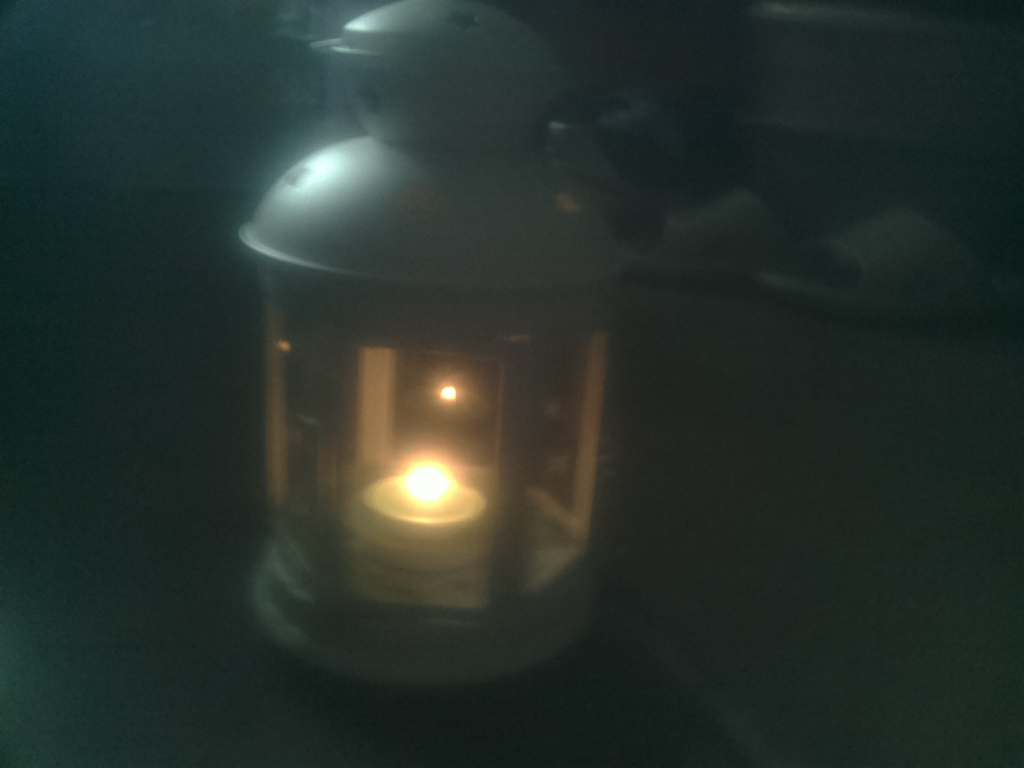fire: (365, 439, 492, 551)
